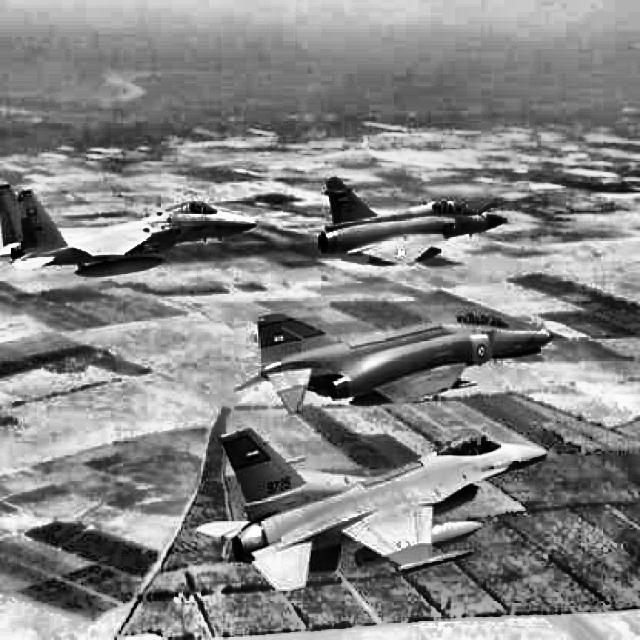F15: (0, 184, 257, 278)
F16: (196, 426, 549, 594)
F4: (234, 310, 555, 415)
Mirage2000: (317, 176, 508, 267)
